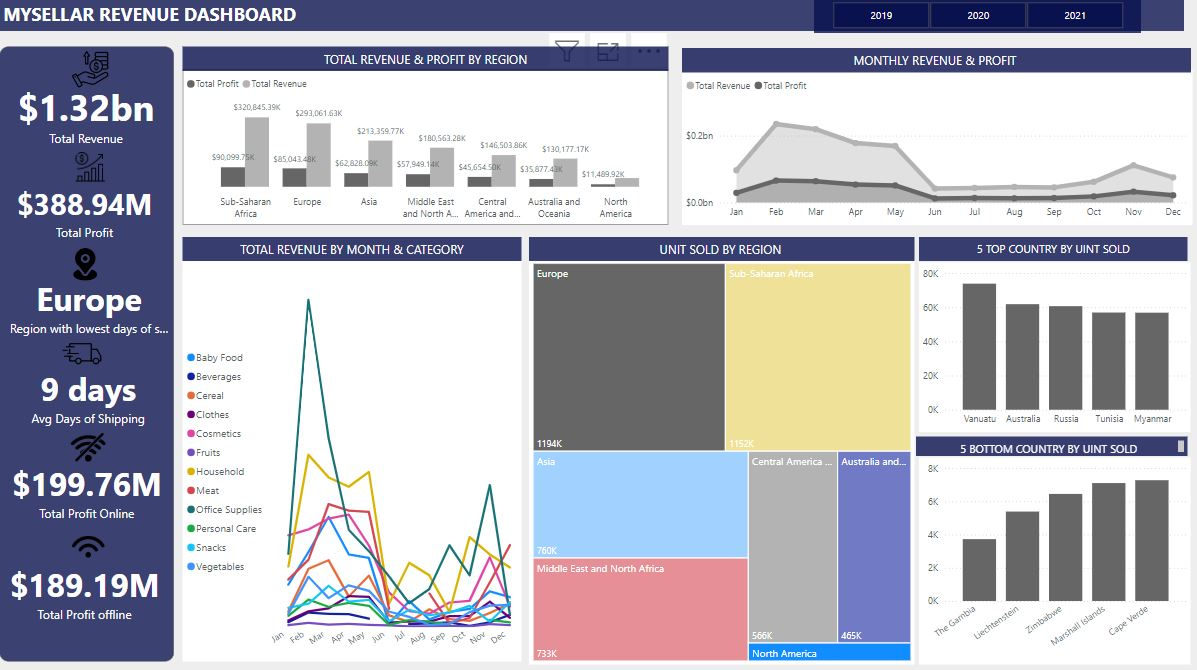

The dashboard page shown, as its layout file describes it:
{"tool":"powerbi","page":{"name":"Revenue Dashboard","canvas":[1600,900],"ordinal":0},"visuals":[{"type":"clusteredColumnChart","fields":{"Category":["Mysellar Store.Region"],"Y":["Dax Measure.Total Profit","Dax Measure.Total Revenue"]},"box":[246.2,96.2,648.1,207.7],"z":0},{"type":"lineChart","fields":{"Y":["Dax Measure.Total Revenue"],"Series":["Mysellar Store.Category"],"Category":["Order Date.Month"]},"box":[246,352,452,534],"z":1000},{"type":"lineChart","fields":{"Y":["Dax Measure.Total Revenue","Dax Measure.Total Profit"],"Category":["Order Date.Month"]},"box":[911.5,98.1,680.8,205.8],"z":2000},{"type":"textbox","box":[2,0,1579,45.3],"z":3000},{"type":"slicer","fields":{"Values":["Order Date.Year"]},"box":[1088,0,436,48],"z":4000},{"type":"columnChart","fields":{"Category":["Mysellar Store.Country"],"Y":["Dax Measure.Total Unit Sold"]},"box":[1228,354,362,226],"z":5000},{"type":"columnChart","fields":{"Category":["Mysellar Store.Country"],"Y":["Dax Measure.Total Unit Sold"]},"box":[1228,614,362,276],"z":6000},{"type":"textbox","box":[2.5,65.8,232.9,820.3],"z":7000},{"type":"treemap","fields":{"Group":["Mysellar Store.Region"],"Values":["Dax Measure.Total Unit Sold"]},"box":[708,350,514,540],"z":8000},{"type":"card","fields":{"Values":["Dax Measure.Total Profit Online"]},"box":[0,596,236,124],"z":9000},{"type":"card","fields":{"Values":["Dax Measure.Total Profit"]},"box":[8,214,214,142],"z":10000},{"type":"card","fields":{"Values":["Dax Measure.RegionWithMinAvgShippingDuration"]},"box":[6,352,230,118],"z":11000},{"type":"card","fields":{"Values":["Dax Measure.FormattedAverageShippingDuration"]},"box":[6,476,228,112],"z":12000},{"type":"card","title":"Total Revenue","fields":{"Values":["Dax Measure.Total Revenue"]},"box":[4,88,226,136],"z":13000},{"type":"card","fields":{"Values":["Dax Measure.Total Profit offline"]},"box":[4,734,222,118],"z":14000},{"type":"textbox","box":[246.2,65.4,648.1,32.7],"z":15000},{"type":"textbox","box":[911.5,67.3,678.8,32.7],"z":16000},{"type":"textbox","box":[246,320,452,32],"z":17000},{"type":"textbox","box":[708,320,514,32],"z":18000},{"type":"textbox","box":[1224,586,362,26],"z":19000},{"type":"textbox","box":[1228,320,358,32],"z":20000},{"type":"image","box":[90,200,66,52],"z":21000},{"type":"image","box":[90,66,66,60],"z":22000},{"type":"image","box":[88,324,56,64],"z":23000},{"type":"image","box":[80,444,64,62],"z":24000},{"type":"image","box":[86,564,68,72],"z":25000},{"type":"image","box":[86,698,68,70],"z":26000}]}

Visuals, with their boxes in screenshot pixels (x1, y1, x2, y2), scaled from the page's 1600x900 canvas onto the 1197x670 screenshot:
clusteredColumnChart - Mysellar Store.Region x Dax Measure.Total Profit: <box>184,72,669,226</box>
lineChart - Dax Measure.Total Revenue x Mysellar Store.Category: <box>184,262,522,660</box>
lineChart - Dax Measure.Total Revenue x Dax Measure.Total Profit: <box>682,73,1191,226</box>
textbox: <box>1,0,1183,34</box>
slicer - Order Date.Year: <box>814,0,1140,36</box>
columnChart - Mysellar Store.Country x Dax Measure.Total Unit Sold: <box>919,264,1190,432</box>
columnChart - Mysellar Store.Country x Dax Measure.Total Unit Sold: <box>919,457,1190,663</box>
textbox: <box>2,49,176,660</box>
treemap - Mysellar Store.Region x Dax Measure.Total Unit Sold: <box>530,261,914,663</box>
card - Dax Measure.Total Profit Online: <box>0,444,177,536</box>
card - Dax Measure.Total Profit: <box>6,159,166,265</box>
card - Dax Measure.RegionWithMinAvgShippingDuration: <box>4,262,177,350</box>
card - Dax Measure.FormattedAverageShippingDuration: <box>4,354,175,438</box>
"Total Revenue" card: <box>3,66,172,167</box>
card - Dax Measure.Total Profit offline: <box>3,546,169,634</box>
textbox: <box>184,49,669,73</box>
textbox: <box>682,50,1190,74</box>
textbox: <box>184,238,522,262</box>
textbox: <box>530,238,914,262</box>
textbox: <box>916,436,1187,456</box>
textbox: <box>919,238,1187,262</box>
image: <box>67,149,117,188</box>
image: <box>67,49,117,94</box>
image: <box>66,241,108,289</box>
image: <box>60,331,108,377</box>
image: <box>64,420,115,473</box>
image: <box>64,520,115,572</box>
